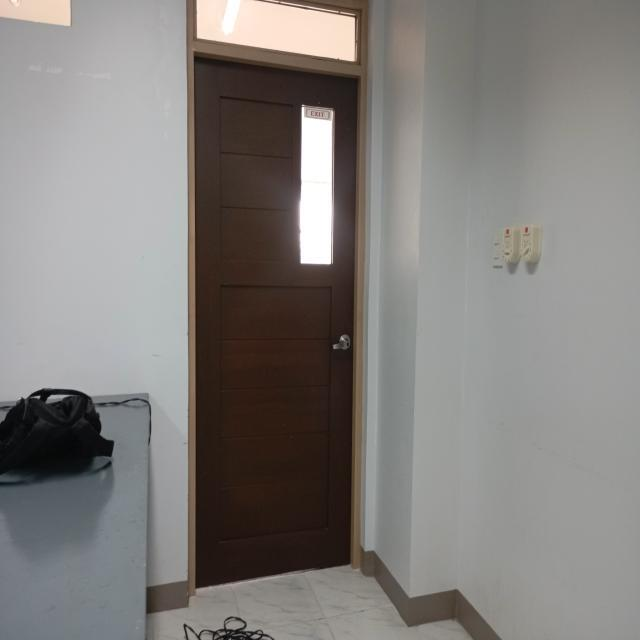door: (177, 1, 374, 598)
